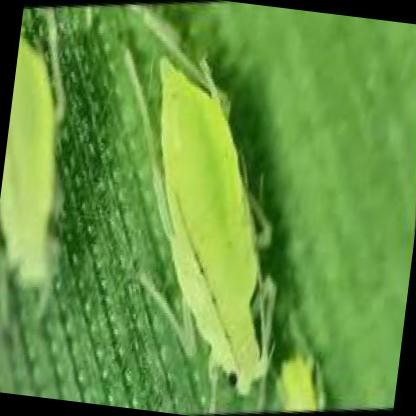schizaphis graminum: (124, 51, 262, 397)
